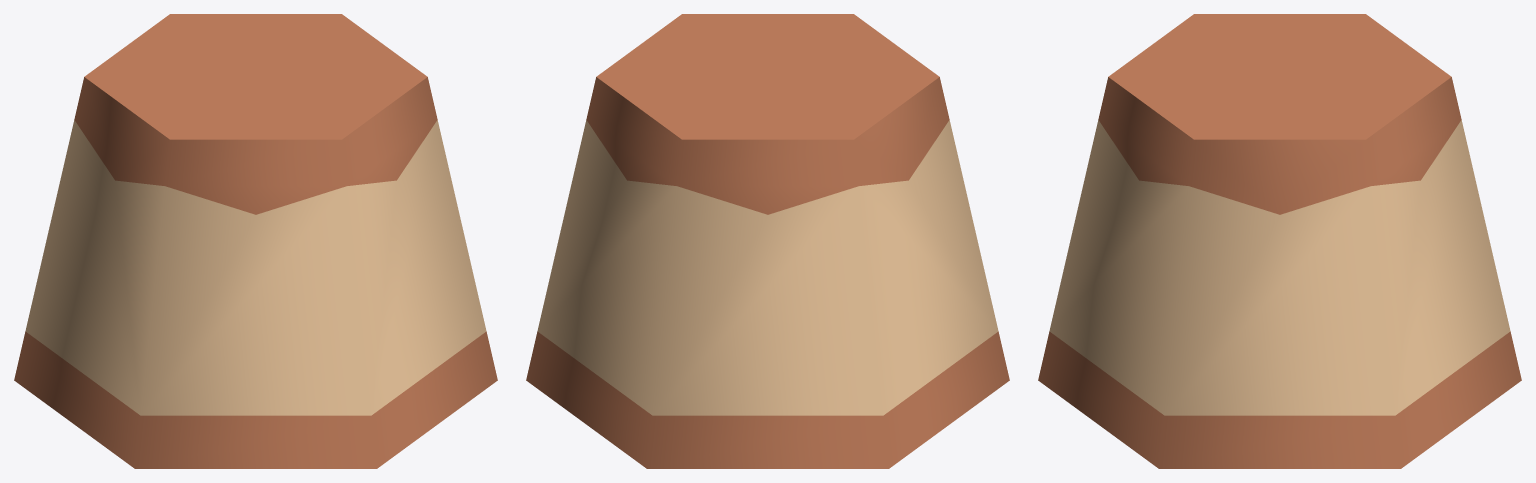
The model's file is Pudding.glb.
The picture shows the model from 3 angles, left to right: view 1: azimuth 30°, elevation 25°; view 2: azimuth 150°, elevation 25°; view 3: azimuth 270°, elevation 25°; orthographic projection.
Parts seen in each view (by area): view 1: Pudding; view 2: Pudding; view 3: Pudding.
Part boxes in pixels (x1=…): Pudding: x1=14, y1=14, x2=497, y2=468; Pudding: x1=526, y1=14, x2=1009, y2=468; Pudding: x1=1038, y1=14, x2=1521, y2=468.
Bounding box in the file's own units: 0.2499 × 0.1998 × 0.2886.
